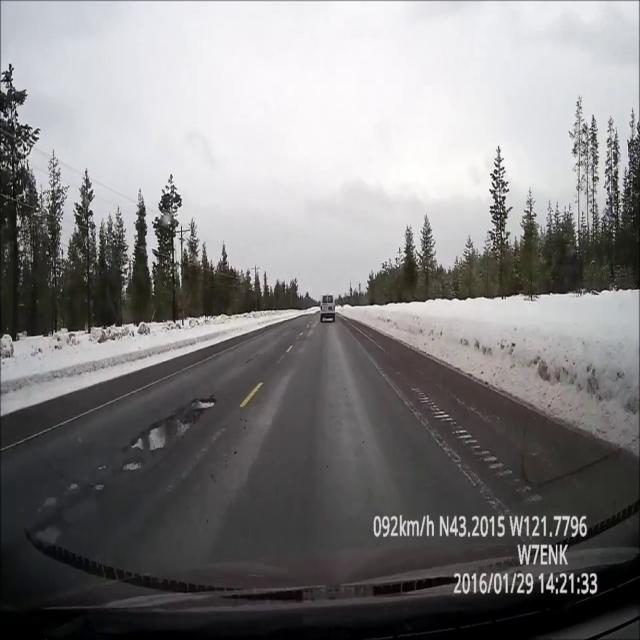Pothole: (126, 414, 194, 456), (181, 394, 219, 412)
